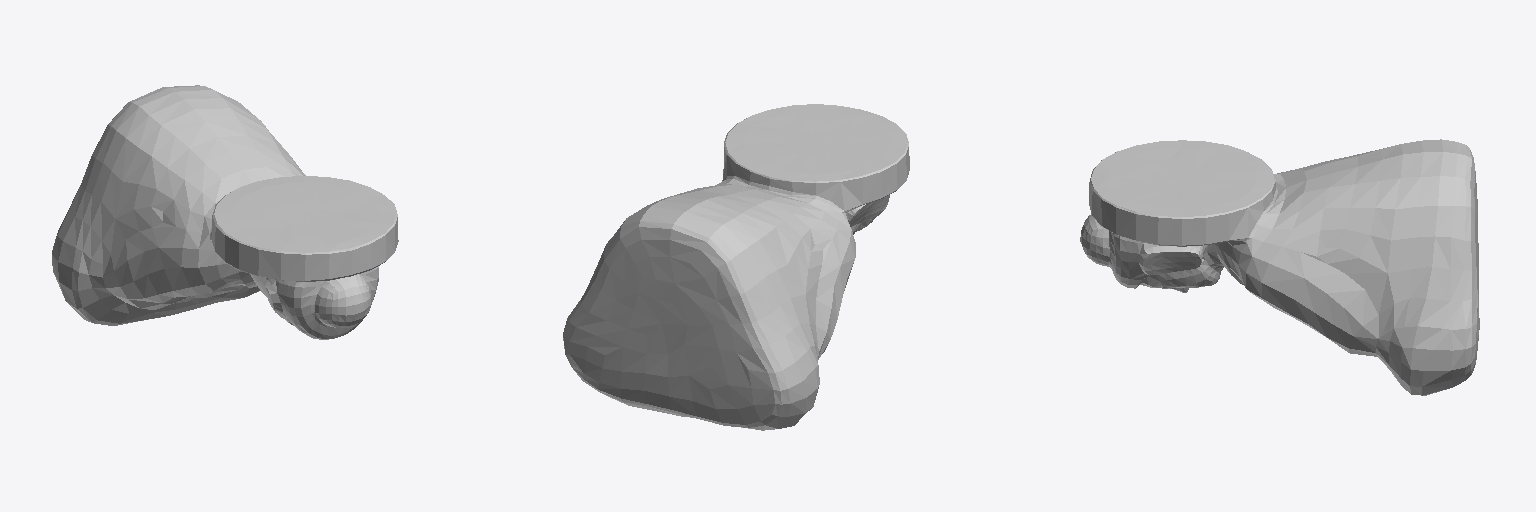
File: buddha.obj
3 renders of one model, left to right at view 1: azimuth 30°, elevation 25°; view 2: azimuth 150°, elevation 25°; view 3: azimuth 270°, elevation 25°, orthographic.
Visible parts, largest first — view 1: BUDDHA; view 2: BUDDHA; view 3: BUDDHA.
Part boxes in pixels (x1,y1,x2,y2): BUDDHA: (52, 85, 398, 339); BUDDHA: (563, 104, 909, 430); BUDDHA: (1080, 139, 1479, 395).
Bounding box in the file's own units: 22.49 × 19.04 × 33.01.